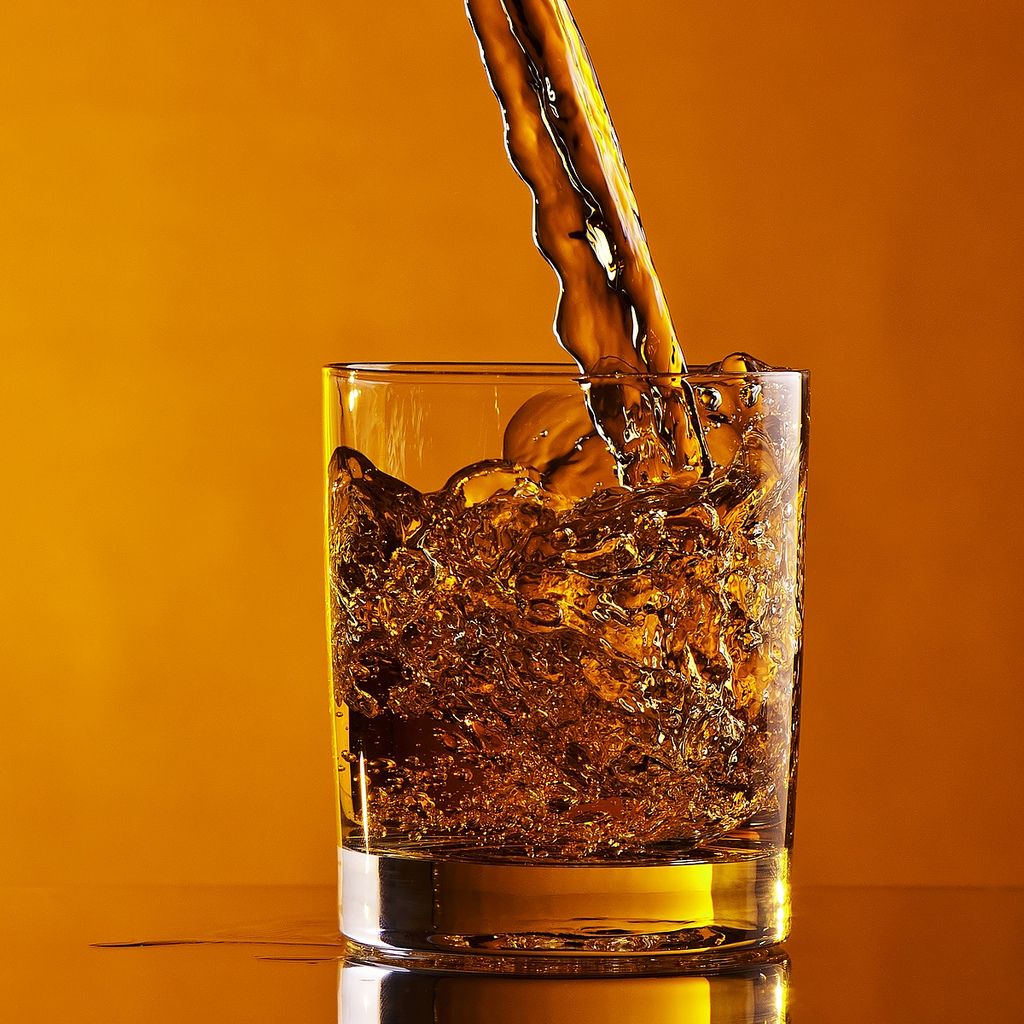glass of water: (300, 354, 816, 976)
